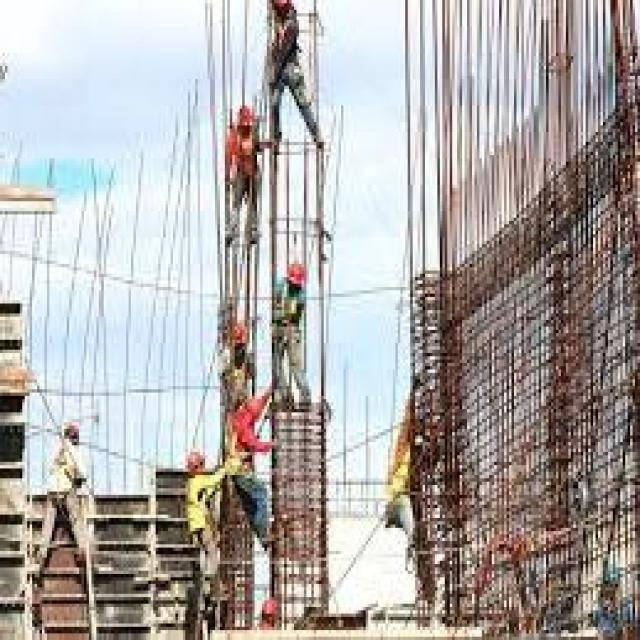Safety-Helmet: (282, 254, 311, 294), (255, 590, 284, 627), (232, 99, 260, 132), (59, 412, 86, 446), (264, 0, 299, 13)
